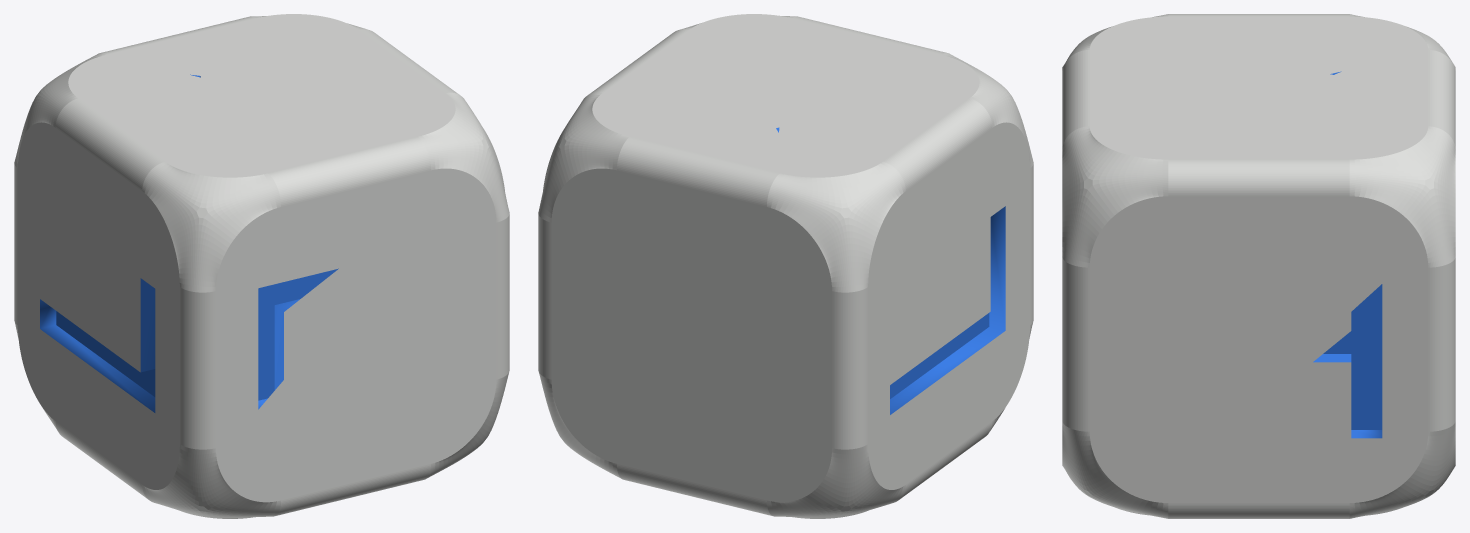
Rendered from BoggleDice.fbx_Die5.fbx.
The picture shows the model from 3 angles, left to right: view 1: azimuth 30°, elevation 25°; view 2: azimuth 150°, elevation 25°; view 3: azimuth 270°, elevation 25°; orthographic projection. The views are drawn at different scales.
Parts seen in each view (by area): view 1: Die5; view 2: Die5; view 3: Die5.
Boxes of the visible parts, x1,y1,x2,y2 form: Die5: [14, 14, 509, 518]; Die5: [538, 14, 1033, 518]; Die5: [1062, 14, 1455, 518].
Size of the model in its own units: 200 by 200 by 200.
